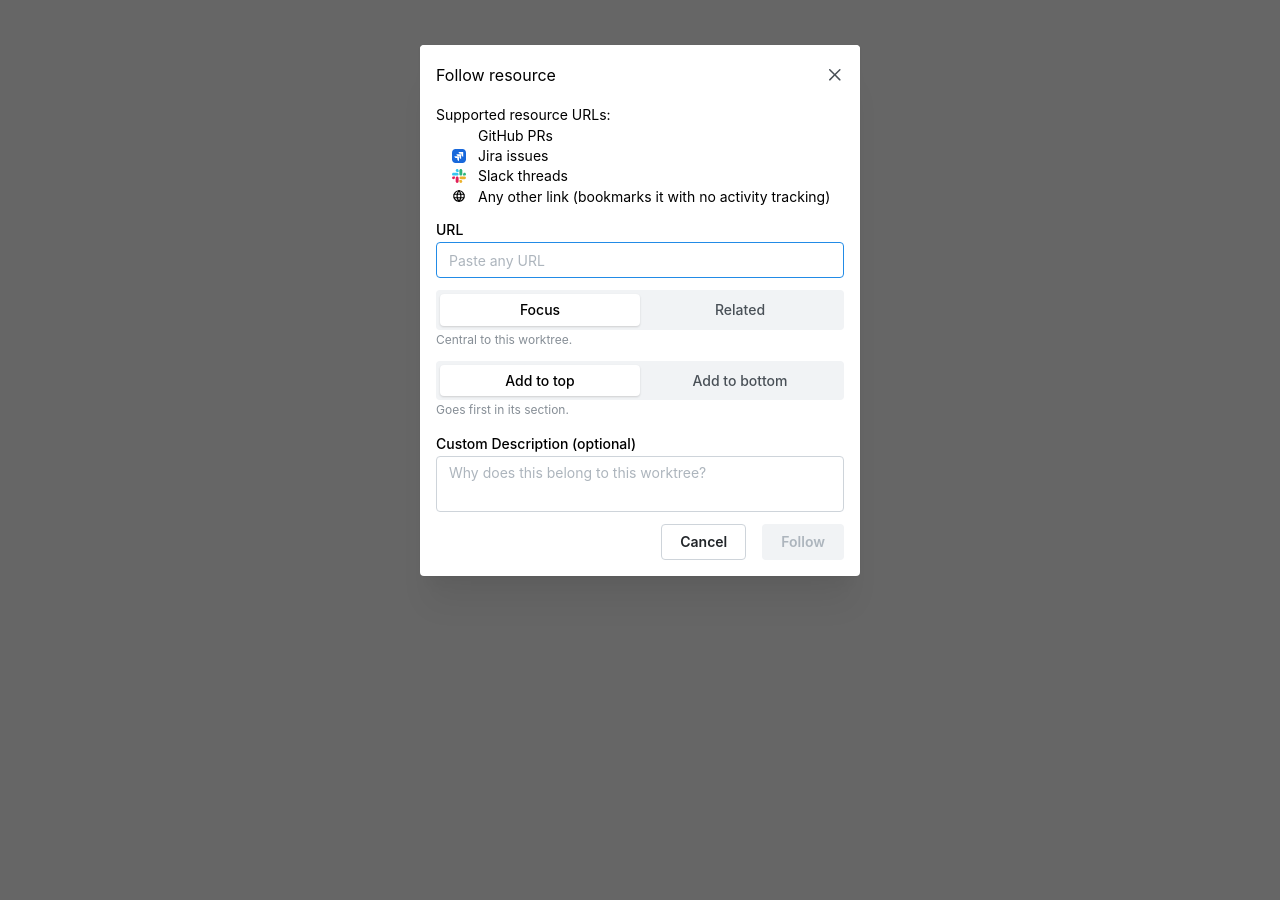
AddResourceModal › shows an inline error and stays open when addResource rejects
Type "not-a-url" into the field labelled "URL" at (640, 260), box [436,242,844,278]
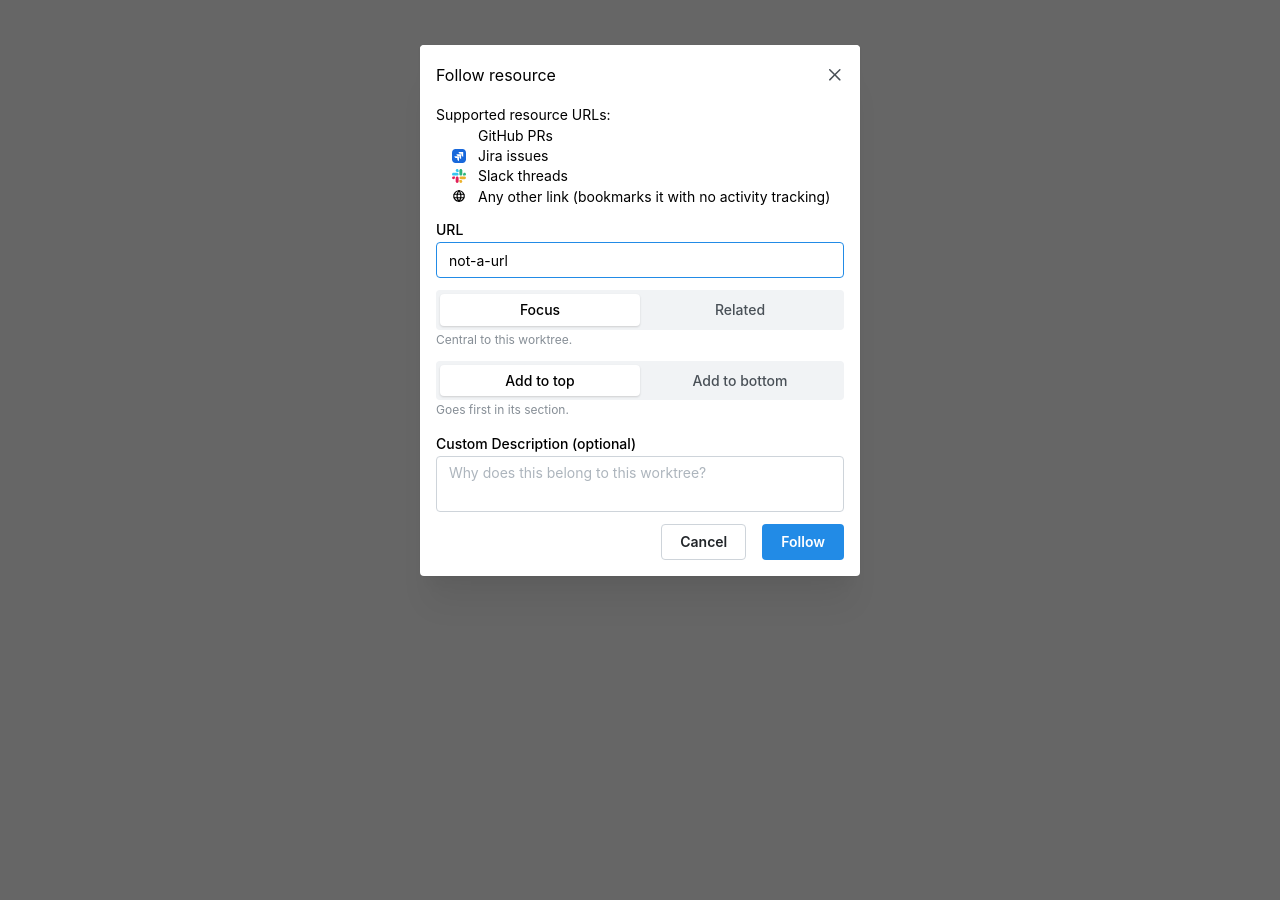
Click the button "Follow" at (803, 542), box [762,524,844,560]
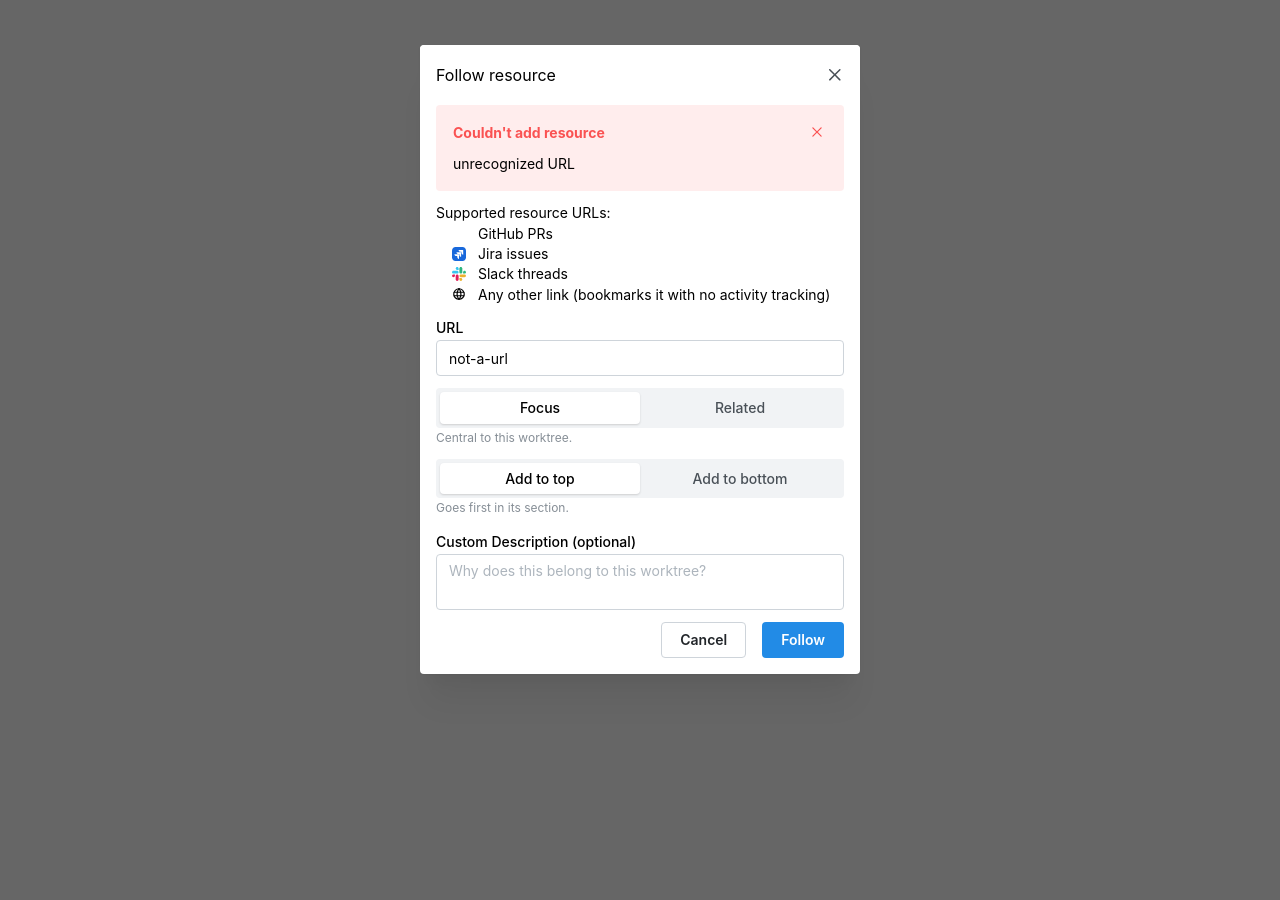
Result: the text "unrecognized URL" is shown at [453,155,575,172]
